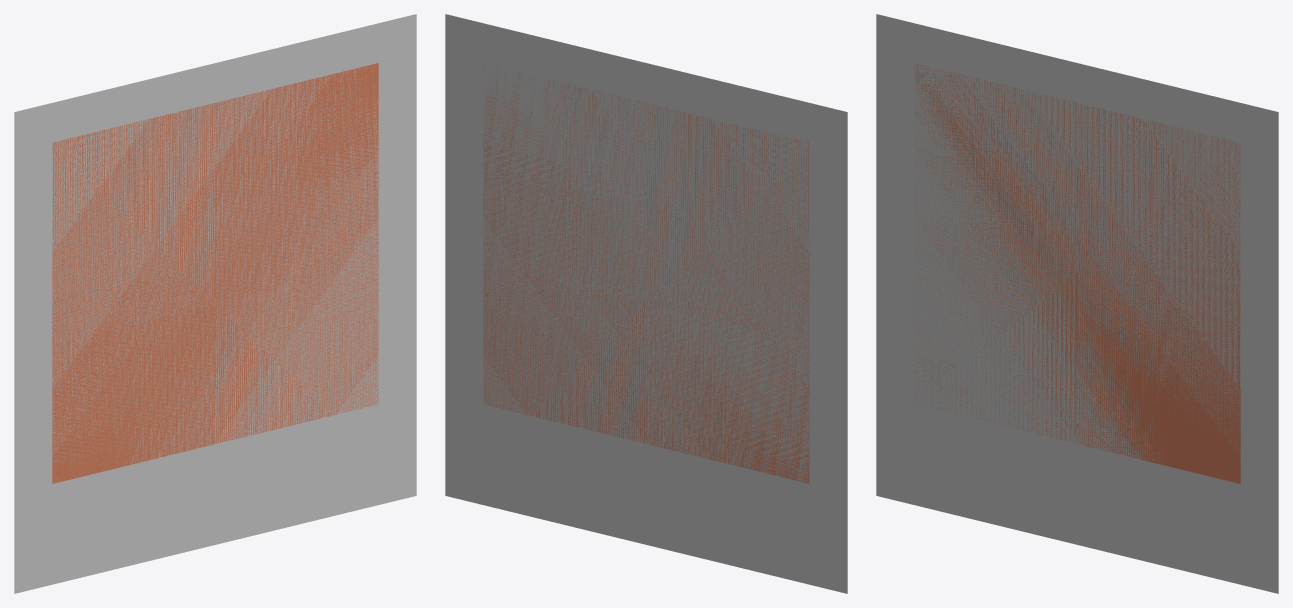
Rendered from photo.fbx.
The picture shows the model from 3 angles, left to right: view 1: azimuth 30°, elevation 25°; view 2: azimuth 150°, elevation 25°; view 3: azimuth 330°, elevation 25°; orthographic projection.
Parts seen in each view (by area): view 1: InstantCameraPrintout, InstantCameraPrintout_picture; view 2: InstantCameraPrintout, InstantCameraPrintout_picture; view 3: InstantCameraPrintout, InstantCameraPrintout_picture.
Part boxes in pixels (bbox=[...]): InstantCameraPrintout: bbox=[14, 14, 416, 593]; InstantCameraPrintout_picture: bbox=[52, 63, 378, 483]; InstantCameraPrintout: bbox=[445, 14, 847, 593]; InstantCameraPrintout_picture: bbox=[483, 66, 809, 483]; InstantCameraPrintout: bbox=[876, 14, 1278, 593]; InstantCameraPrintout_picture: bbox=[914, 63, 1240, 483].
Bounding box in the file's own units: 200 × 229 × 6.46e-05.
